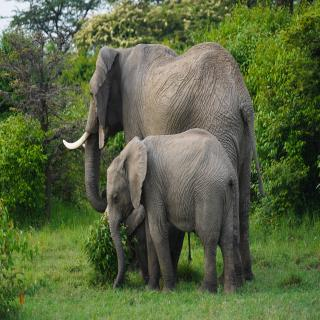Elephant: (62, 44, 276, 292), (104, 126, 244, 304)
